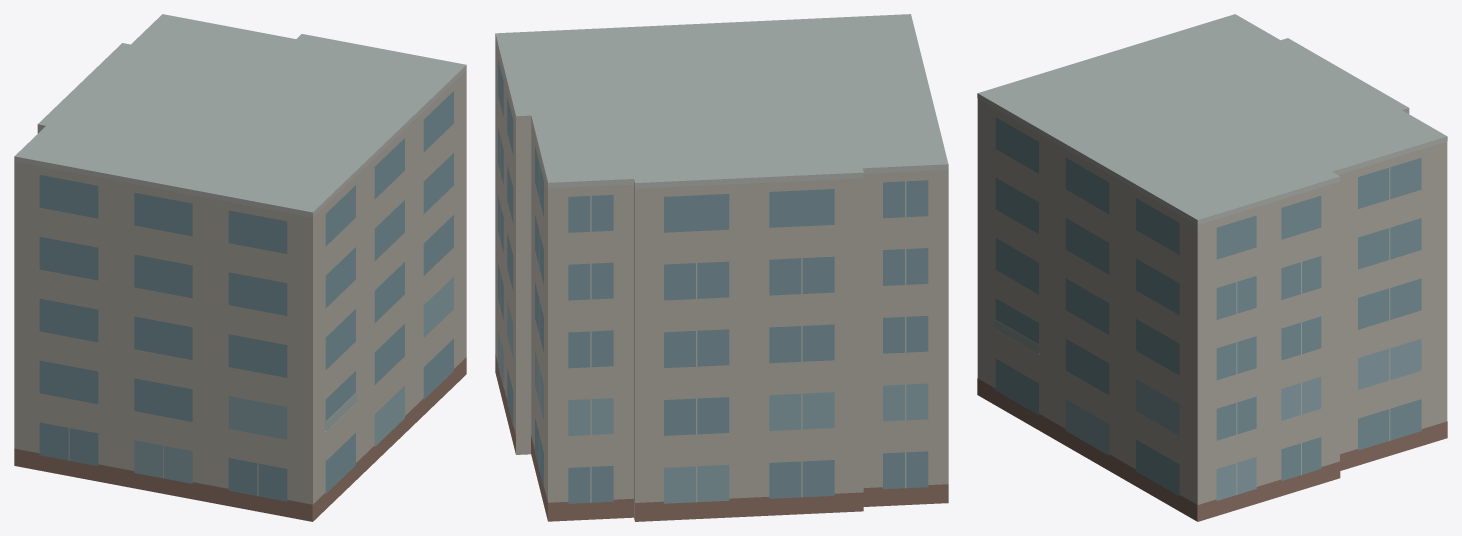
The model's file is survey-upis-32874033.glb.
The picture shows the model from 3 angles, left to right: view 1: azimuth 30°, elevation 25°; view 2: azimuth 150°, elevation 25°; view 3: azimuth 270°, elevation 25°; orthographic projection. The views are drawn at different scales.
Visible parts, largest first — view 1: survey-upis-32874033.tmp; view 2: survey-upis-32874033.tmp; view 3: survey-upis-32874033.tmp.
Boxes of the visible parts, <box> form: survey-upis-32874033.tmp: <box>14,14,466,521</box>; survey-upis-32874033.tmp: <box>495,14,948,521</box>; survey-upis-32874033.tmp: <box>977,14,1447,521</box>.
Bounding box in the file's own units: 21.17 × 14.45 × 20.4.
